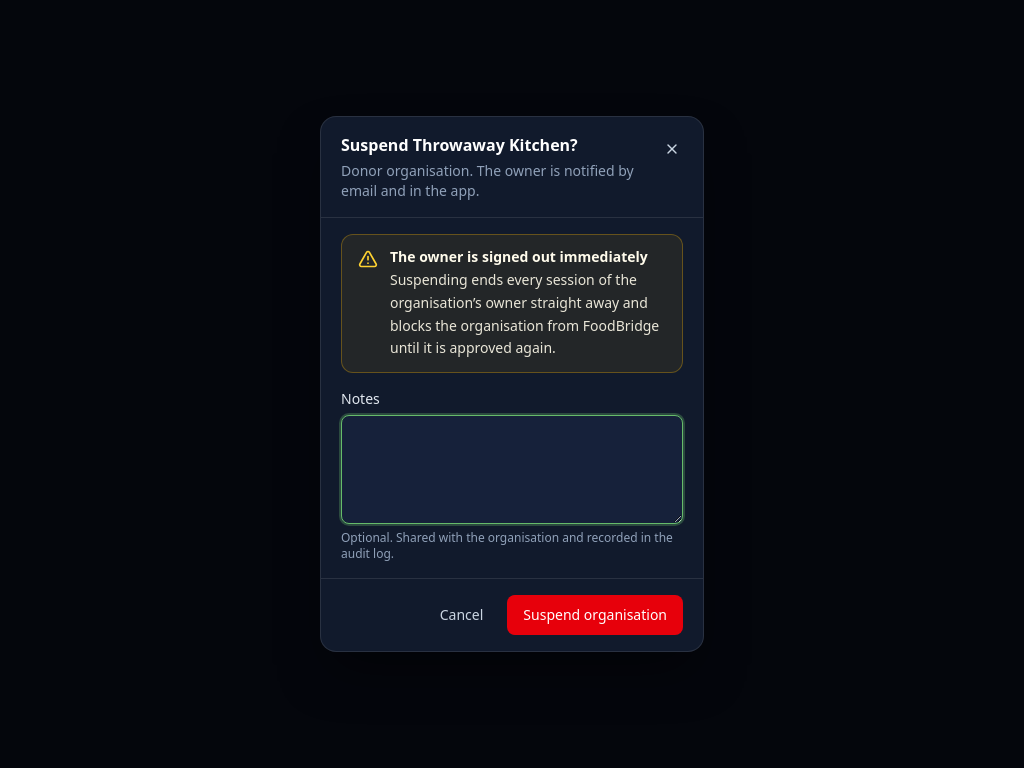
Test case: verification decisions › explains that suspending signs the owner out, and maps REASON_REQUIRED onto the notes field
Expected: the text "The owner is signed out immediately" is shown, [390,247,666,267]
Click the button "Suspend organisation": coordinates (595, 615) [507,595,683,635]
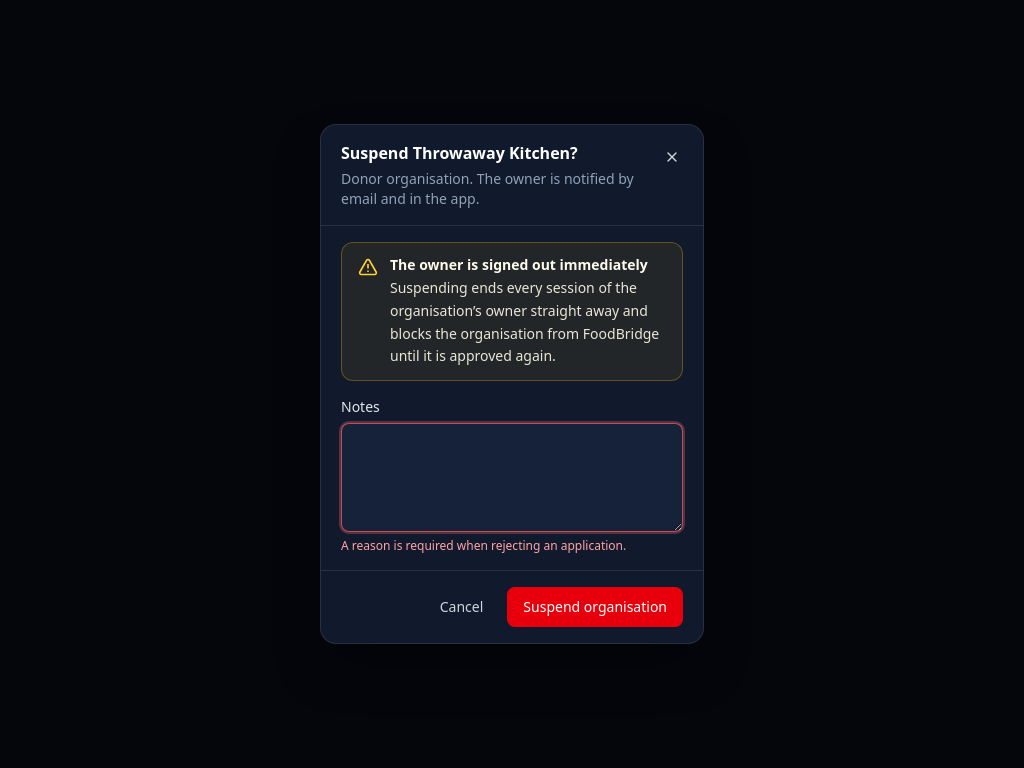
Now the text "A reason is required when rejecting an application." is shown, box [341,537,626,554]
